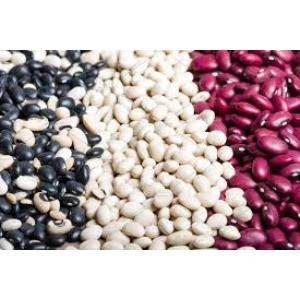beans_brain food: (92, 89, 186, 243), (6, 68, 73, 243), (225, 64, 290, 229)
